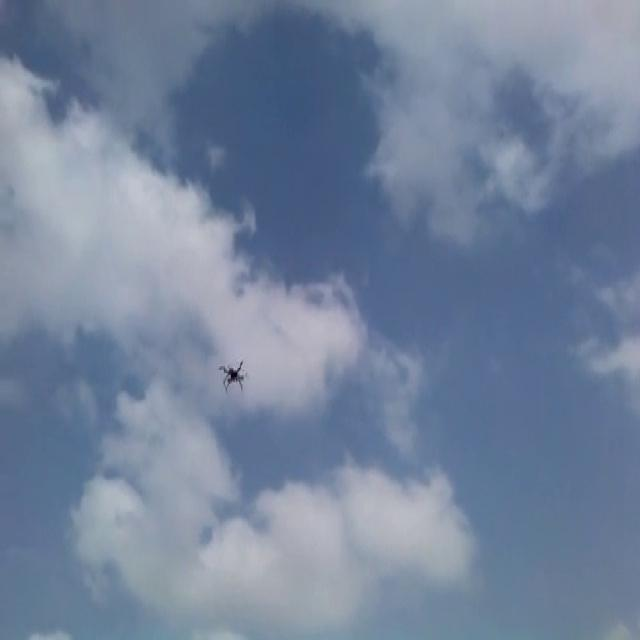drone: (215, 350, 250, 395)
